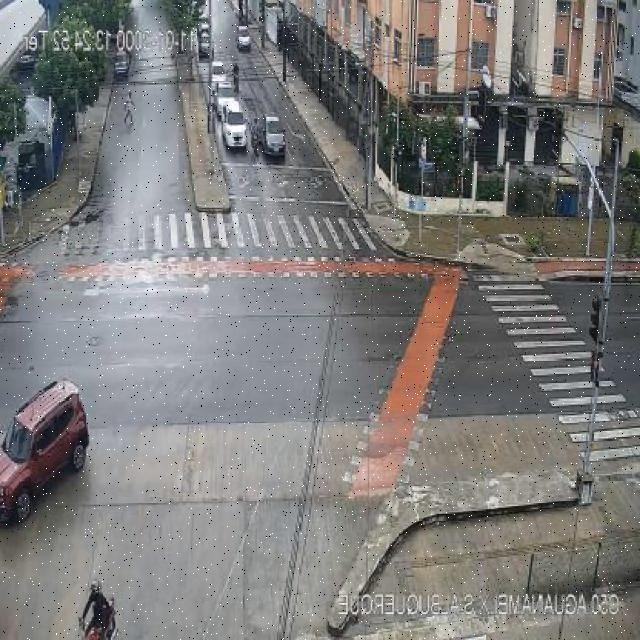Car: (1, 378, 90, 524), (252, 115, 286, 156), (220, 104, 249, 150), (214, 86, 240, 122), (210, 61, 231, 91), (113, 55, 130, 79), (614, 76, 638, 93), (236, 26, 251, 51)
